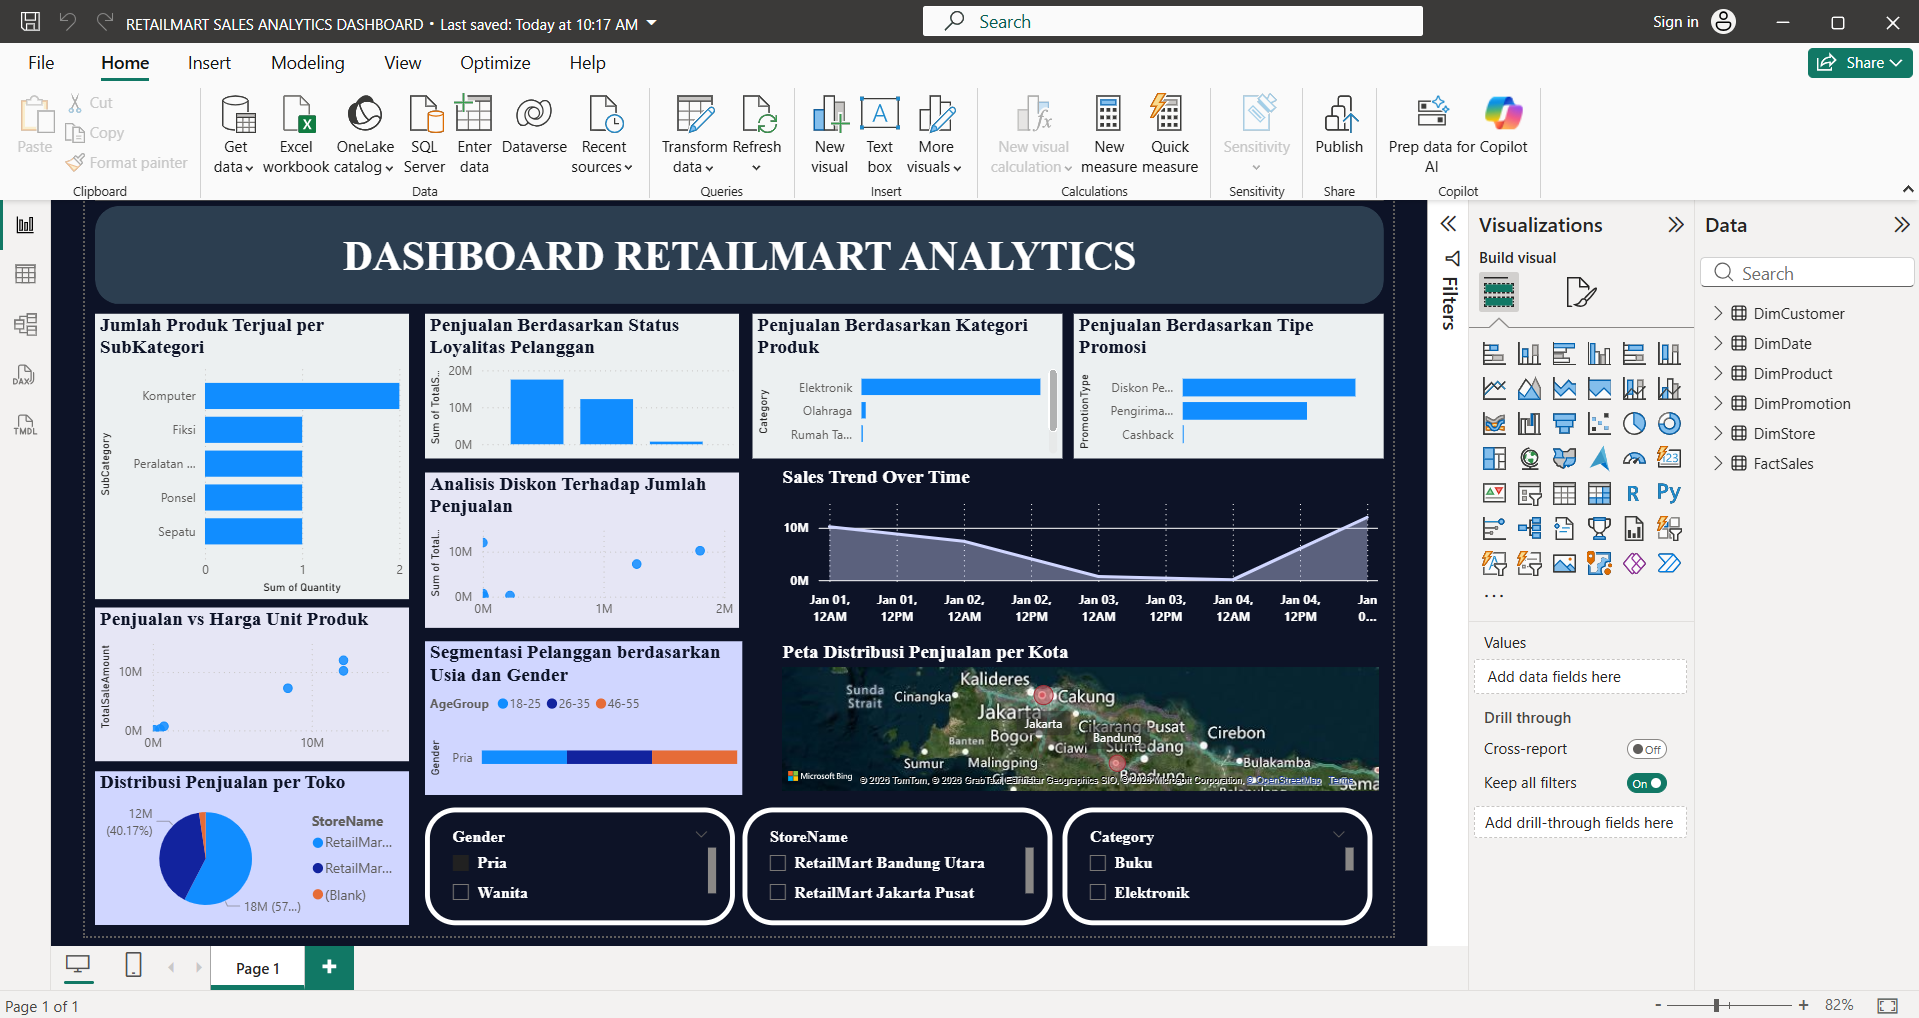

What the dashboard file says about the page in this screenshot:
{"tool":"powerbi","page":{"name":"Page 1","canvas":[1280,720],"ordinal":0},"visuals":[{"type":"shape","box":[9.6,0,1261.1,101.5],"z":0},{"type":"lineChart","title":"Sales Trend Over Time","fields":{"Category":["DimDate.FullDate"],"Y":["Sum(FactSales.TotalSaleAmount)"]},"box":[677.4,260.5,593.1,162.6],"z":1000},{"type":"barChart","title":"Penjualan Berdasarkan Kategori Produk","fields":{"Category":["DimProduct.Category"],"Y":["Sum(FactSales.TotalSaleAmount)"]},"box":[653,111.3,303.3,141.8],"z":2000},{"type":"pieChart","title":"Distribusi Penjualan per Toko","fields":{"Category":["DimStore.StoreName"],"Y":["Sum(FactSales.TotalSaleAmount)"]},"box":[9.8,558.8,306.9,150.4],"z":3000},{"type":"columnChart","title":"Penjualan Berdasarkan Status Loyalitas Pelanggan","fields":{"Category":["DimCustomer.LoyaltyStatus"],"Y":["Sum(FactSales.TotalSaleAmount)"]},"box":[332.6,111.3,306.9,141.8],"z":4000},{"type":"scatterChart","title":"Analisis Diskon Terhadap Jumlah Penjualan","fields":{"X":["Sum(FactSales.DiscountAmount)"],"Y":["Sum(FactSales.TotalSaleAmount)"],"Category":["FactSales.TransactionID"]},"box":[332.6,266.6,306.9,151.6],"z":5000},{"type":"barChart","title":"Penjualan Berdasarkan Tipe Promosi","fields":{"Category":["DimPromotion.PromotionType"],"Y":["Sum(FactSales.TotalSaleAmount)"]},"box":[967.3,111.3,303.3,141.8],"z":6000},{"type":"hundredPercentStackedBarChart","title":"Segmentasi Pelanggan berdasarkan Usia dan Gender","fields":{"Category":["DimCustomer.Gender"],"Y":["CountNonNull(DimCustomer.CustomerID)"],"Series":["DimCustomer.AgeGroup"]},"box":[332.6,431.7,310.6,150.4],"z":7000},{"type":"clusteredBarChart","title":"Jumlah Produk Terjual per SubKategori","fields":{"Category":["DimProduct.SubCategory"],"Y":["Sum(FactSales.Quantity)"]},"box":[9.8,111.3,306.9,278.8],"z":8000},{"type":"map","title":"Peta Distribusi Penjualan per Kota","fields":{"Category":["DimStore.City"],"Size":["Sum(FactSales.TotalSaleAmount)"]},"box":[677.4,431.7,593.1,151.6],"z":9000},{"type":"scatterChart","title":"Penjualan vs Harga Unit Produk","fields":{"X":["FactSales.UnitPrice"],"Y":["FactSales.TotalSaleAmount"]},"box":[9.8,398.6,306.9,150.4],"z":10000},{"type":"slicer","fields":{"Values":["DimCustomer.Gender"]},"box":[332.6,594.3,303.3,114.9],"z":11000},{"type":"slicer","fields":{"Values":["DimProduct.Category"]},"box":[956.3,594.3,303.3,114.9],"z":13000},{"type":"slicer","fields":{"Values":["DimStore.StoreName"]},"box":[643.2,594.3,303.3,114.9],"z":14000}]}

Visuals, with their boxes on the page's 1280x720 design canvas (x1, y1, x2, y2). These are canvas units, not pixel positions in the 1919x1018 screenshot, which may show the page scaled, cropped or inside an application window:
shape: 10,0,1271,102
"Sales Trend Over Time" lineChart: 677,260,1270,423
"Penjualan Berdasarkan Kategori Produk" barChart: 653,111,956,253
"Distribusi Penjualan per Toko" pieChart: 10,559,317,709
"Penjualan Berdasarkan Status Loyalitas Pelanggan" columnChart: 333,111,640,253
"Analisis Diskon Terhadap Jumlah Penjualan" scatterChart: 333,267,640,418
"Penjualan Berdasarkan Tipe Promosi" barChart: 967,111,1271,253
"Segmentasi Pelanggan berdasarkan Usia dan Gender" hundredPercentStackedBarChart: 333,432,643,582
"Jumlah Produk Terjual per SubKategori" clusteredBarChart: 10,111,317,390
"Peta Distribusi Penjualan per Kota" map: 677,432,1270,583
"Penjualan vs Harga Unit Produk" scatterChart: 10,399,317,549
slicer - DimCustomer.Gender: 333,594,636,709
slicer - DimProduct.Category: 956,594,1260,709
slicer - DimStore.StoreName: 643,594,946,709
